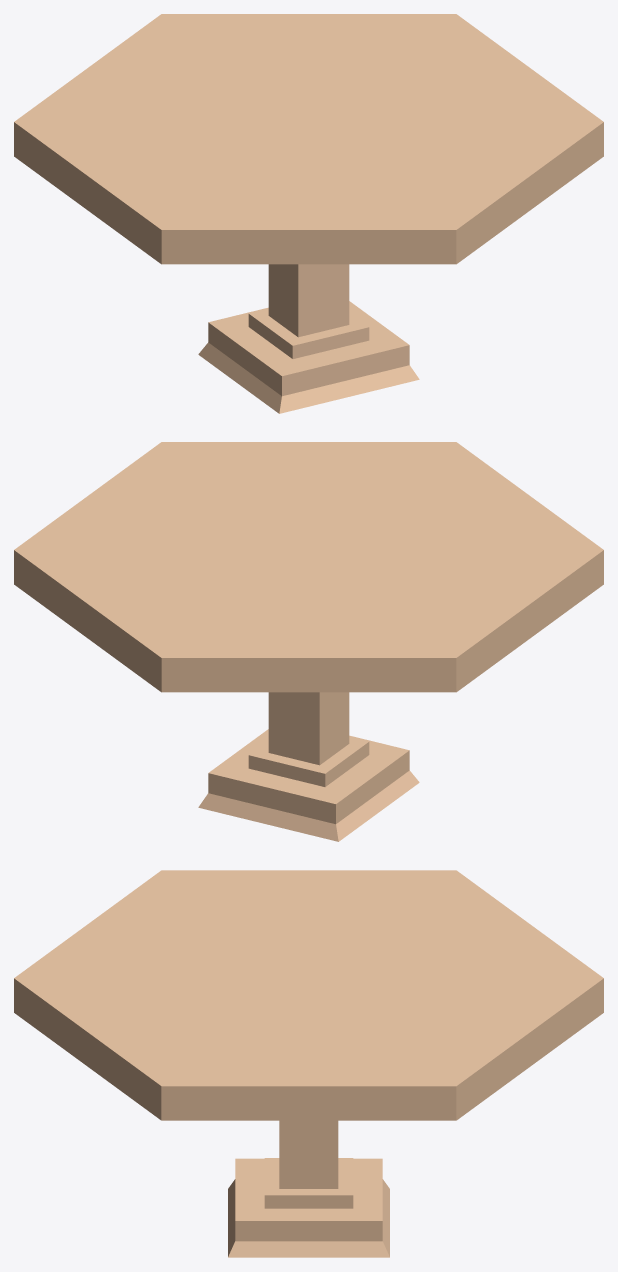
The model's file is tableRound.gltf.
3 views of the same model, one above another, from view 1: azimuth 30°, elevation 25°; view 2: azimuth 150°, elevation 25°; view 3: azimuth 270°, elevation 25° (orthographic).
Parts seen in each view (by area): view 1: tableRound(Clone); view 2: tableRound(Clone); view 3: tableRound(Clone).
Part boxes in pixels (left/top/right/bottom): tableRound(Clone): left=14, top=14, right=603, bottom=413; tableRound(Clone): left=14, top=442, right=603, bottom=841; tableRound(Clone): left=14, top=870, right=603, bottom=1257.
Size of the model in its own units: 0.6928 by 0.3667 by 0.8.
